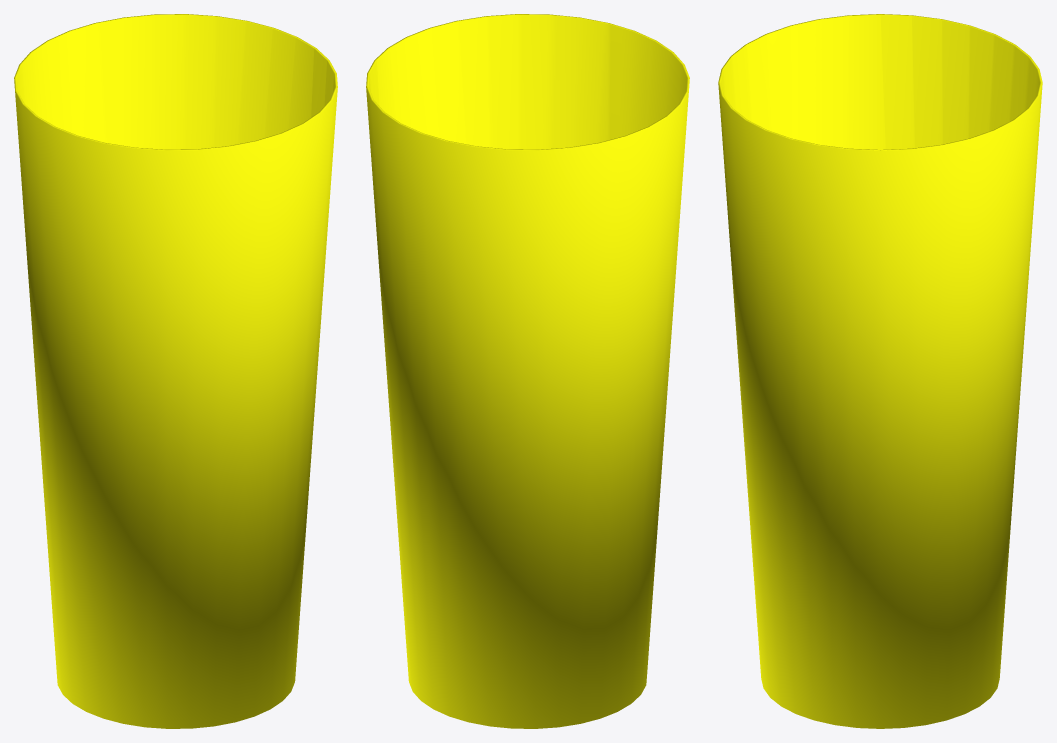
Rendered from yellow_cup.glb.
3 views of the same model, side by side, from view 1: azimuth 30°, elevation 25°; view 2: azimuth 150°, elevation 25°; view 3: azimuth 270°, elevation 25° (orthographic).
Parts seen in each view (by area): view 1: Cylinder_Cylinder.003; view 2: Cylinder_Cylinder.003; view 3: Cylinder_Cylinder.003.
Boxes of the visible parts, x1=… form: Cylinder_Cylinder.003: x1=14, y1=14, x2=337, y2=728; Cylinder_Cylinder.003: x1=366, y1=14, x2=689, y2=728; Cylinder_Cylinder.003: x1=718, y1=14, x2=1042, y2=728.
Size of the model in its own units: 2.13 by 4.31 by 2.13.
